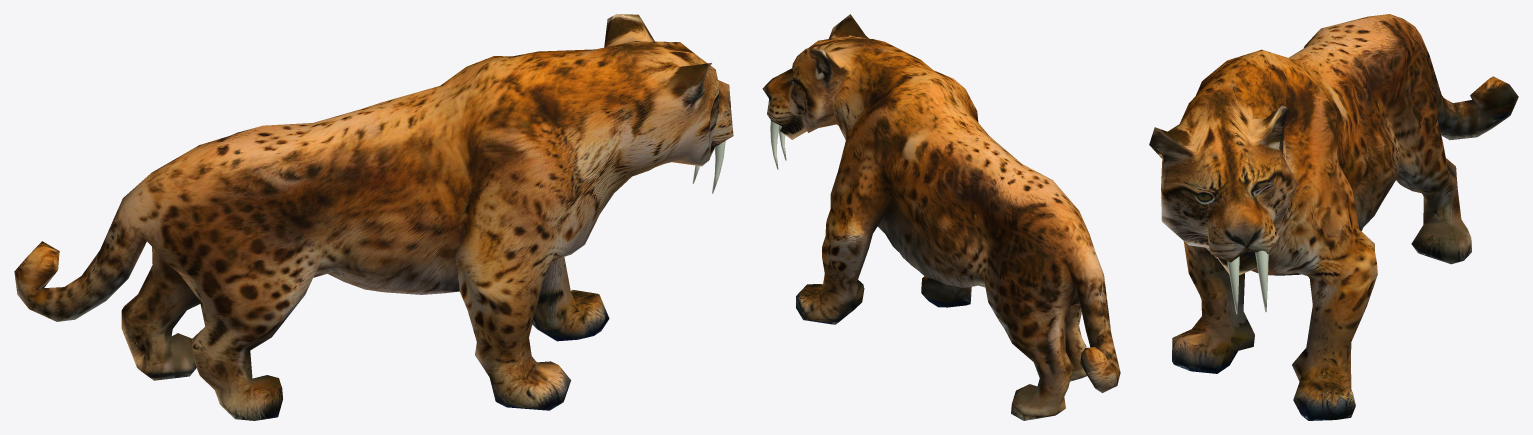
File: Smilodon.glb
3 renders of one model, left to right at view 1: azimuth 30°, elevation 25°; view 2: azimuth 150°, elevation 25°; view 3: azimuth 270°, elevation 25°, orthographic. The views are drawn at different scales.
Parts seen in each view (by area): view 1: tripo_node_41e8e3ae-3de2-4af6-b09f-8b5c57cf2acc; view 2: tripo_node_41e8e3ae-3de2-4af6-b09f-8b5c57cf2acc; view 3: tripo_node_41e8e3ae-3de2-4af6-b09f-8b5c57cf2acc.
Part boxes in pixels (box(x1,y1,x2,y2)): tripo_node_41e8e3ae-3de2-4af6-b09f-8b5c57cf2acc: box(14, 14, 733, 420); tripo_node_41e8e3ae-3de2-4af6-b09f-8b5c57cf2acc: box(762, 14, 1120, 420); tripo_node_41e8e3ae-3de2-4af6-b09f-8b5c57cf2acc: box(1149, 14, 1518, 420).
Size of the model in its own units: 1.85 by 0.9922 by 1.04.
2 materials, 1 textured.
